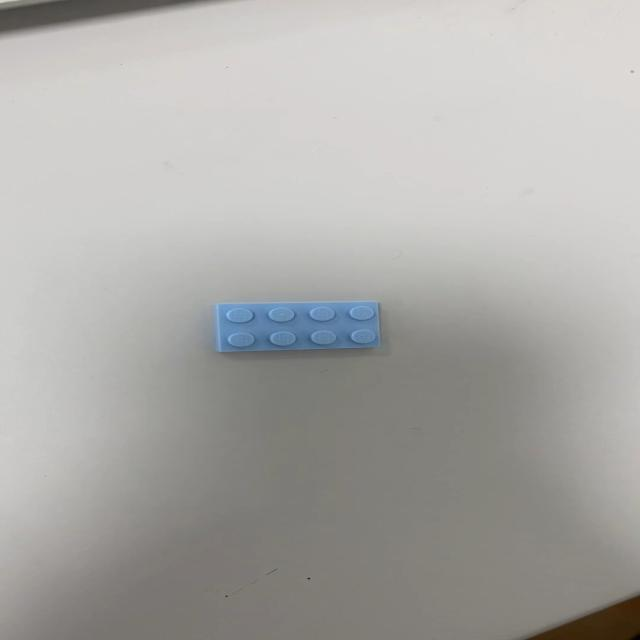C4x2x0: (214, 300, 382, 353)
